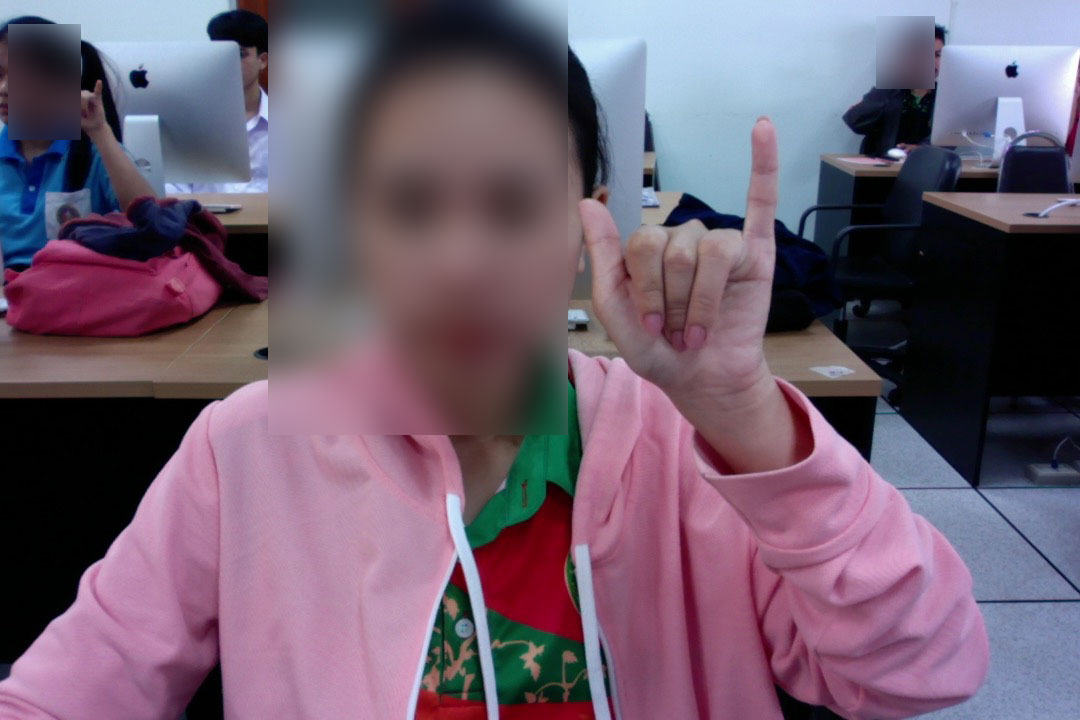yor: (564, 106, 797, 409)
